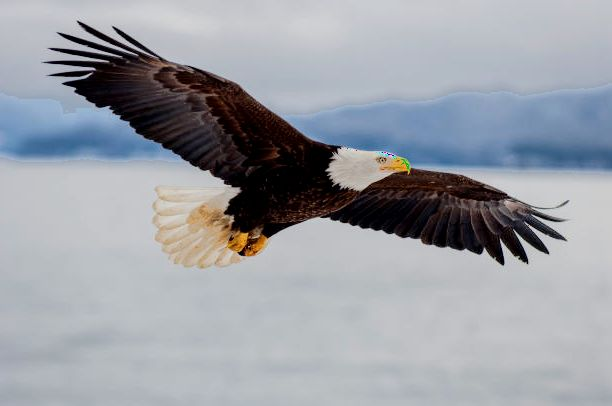Bird: (39, 16, 572, 271)
